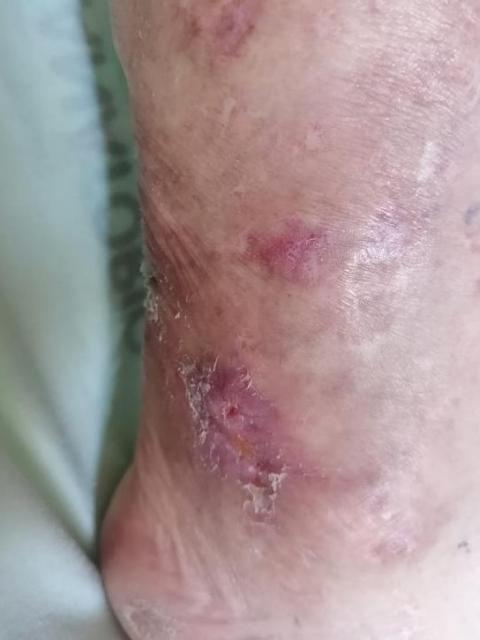wound: (182, 361, 289, 515), (238, 222, 318, 281), (143, 259, 165, 330)
